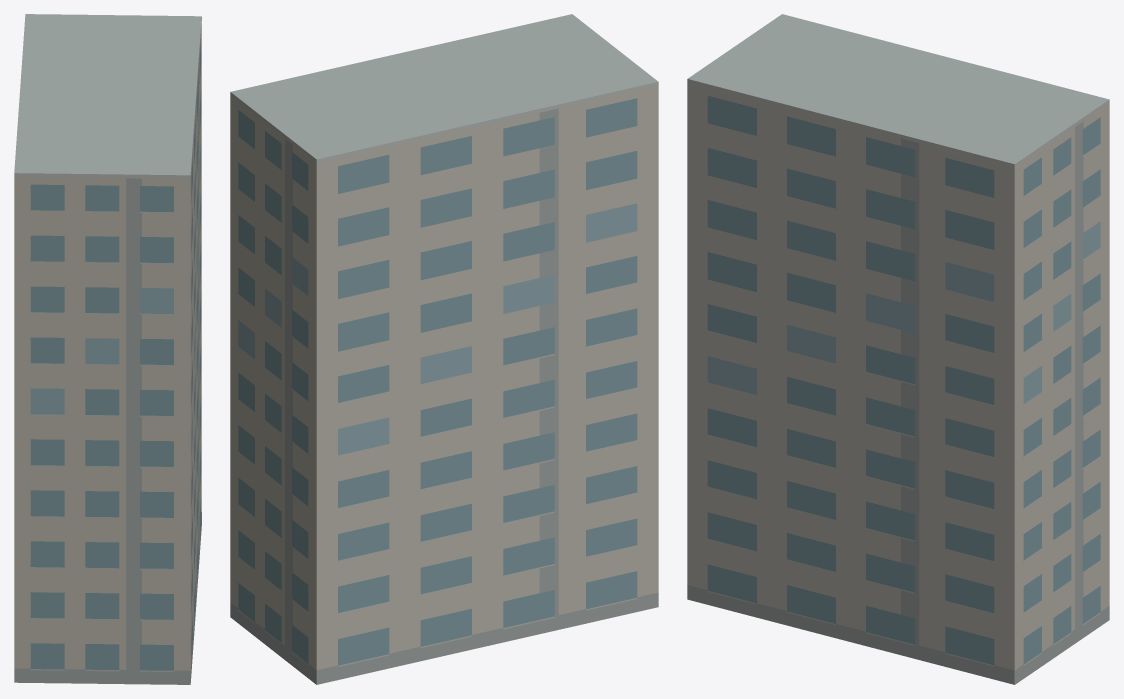
Rendered from residential-f1584a3a-2be0-4d7b-83d4-847cc490fed3.glb.
3 views of the same model, side by side, from view 1: azimuth 30°, elevation 25°; view 2: azimuth 150°, elevation 25°; view 3: azimuth 270°, elevation 25° (orthographic). The views are drawn at different scales.
Parts seen in each view (by area): view 1: residential-f1584a3a-2be0-4d7b-83d4-847cc490fed3.tmp; view 2: residential-f1584a3a-2be0-4d7b-83d4-847cc490fed3.tmp; view 3: residential-f1584a3a-2be0-4d7b-83d4-847cc490fed3.tmp.
Part boxes in pixels (x1,y1,x2,y2): residential-f1584a3a-2be0-4d7b-83d4-847cc490fed3.tmp: (14,14,201,684); residential-f1584a3a-2be0-4d7b-83d4-847cc490fed3.tmp: (230,14,658,684); residential-f1584a3a-2be0-4d7b-83d4-847cc490fed3.tmp: (687,14,1109,684).
Size of the model in its own units: 19.81 by 32 by 23.52.
